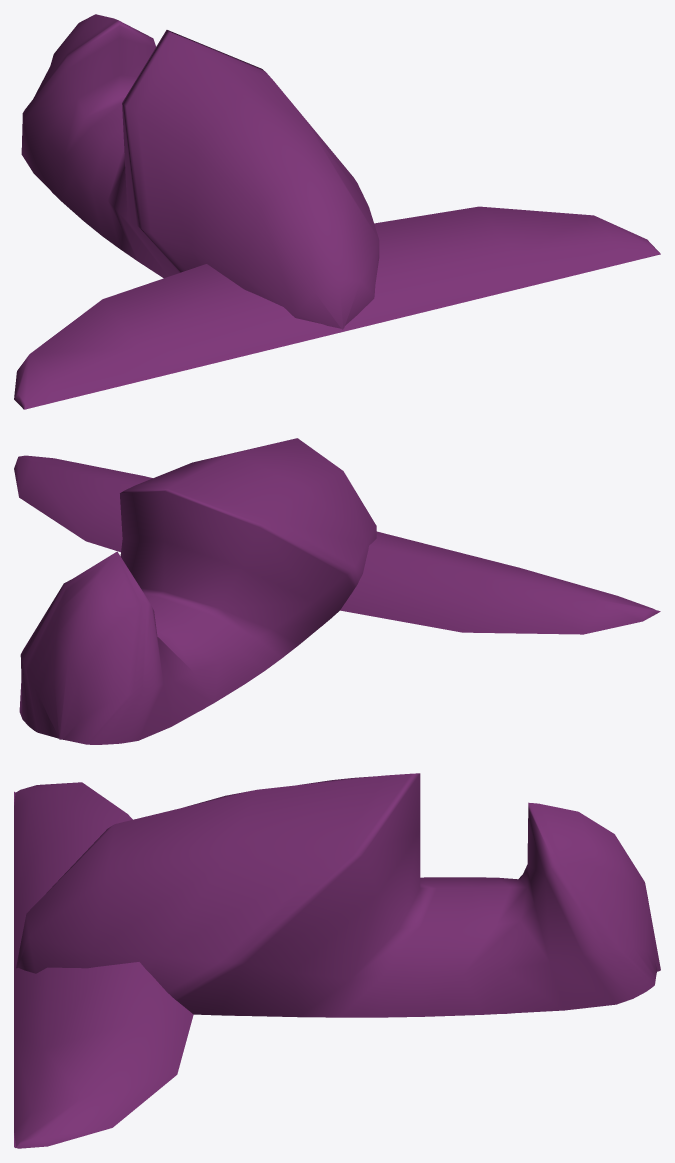
File: Halo Ghost V2.obj
3 views of the same model, one above another, from view 1: azimuth 30°, elevation 25°; view 2: azimuth 150°, elevation 25°; view 3: azimuth 270°, elevation 25° (orthographic). The views are drawn at different scales.
Parts seen in each view (by area): view 1: HaloGhostMesh; view 2: HaloGhostMesh; view 3: HaloGhostMesh.
Boxes of the visible parts, x1=… form: HaloGhostMesh: x1=14, y1=14, x2=660, y2=409; HaloGhostMesh: x1=14, y1=438, x2=660, y2=744; HaloGhostMesh: x1=14, y1=773, x2=660, y2=1148.
Size of the model in its own units: 17.14 by 4.45 by 13.16.
